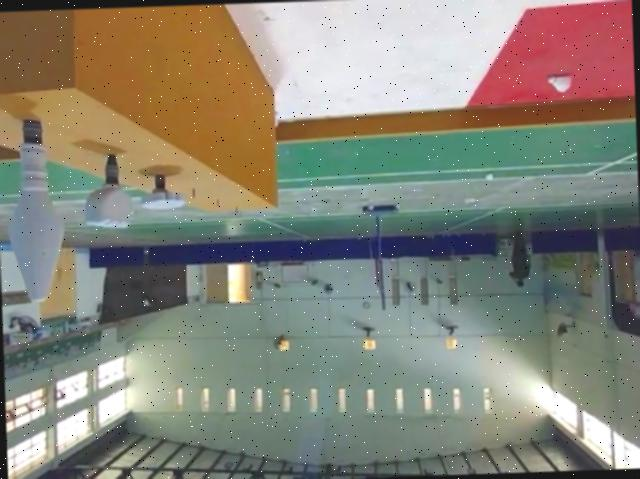Fist: (79, 150, 137, 235)
Hand: (139, 175, 182, 213)
Sph: (3, 108, 68, 303)
